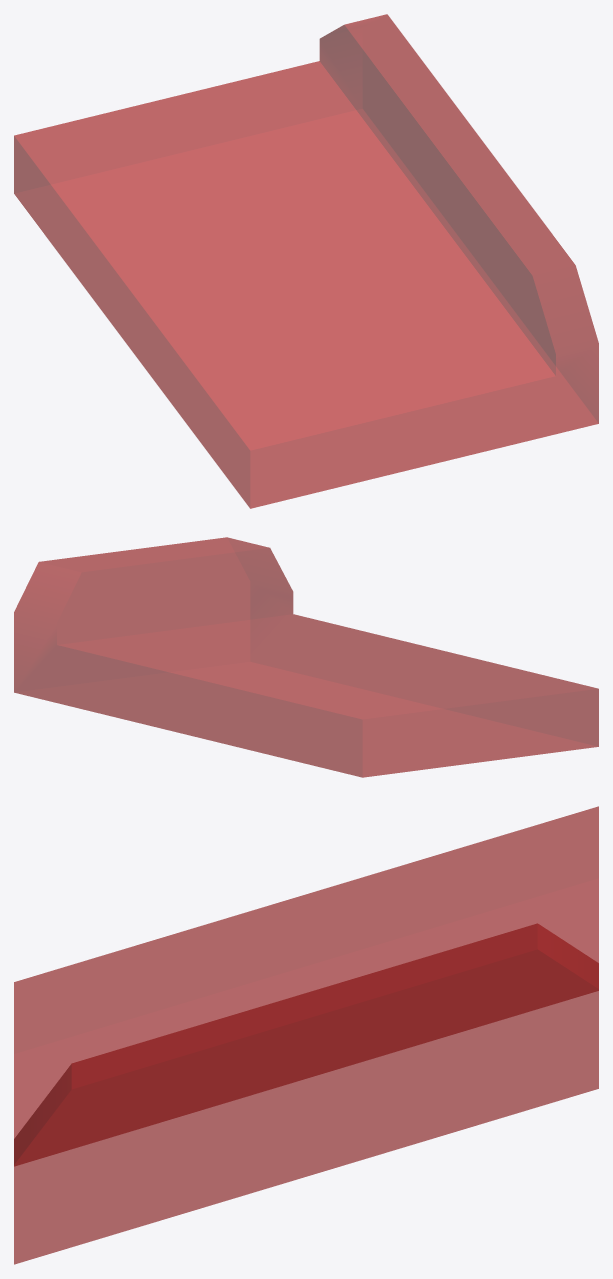
The model's file is SM_Env_Motorway_Ramp_Edge_Destroyed_04_Collision.fbx.
3 views of the same model, one above another, from view 1: azimuth 30°, elevation 25°; view 2: azimuth 150°, elevation 25°; view 3: azimuth 270°, elevation 25° (orthographic). The views are drawn at different scales.
Visible parts, largest first — view 1: SM_Env_Motorway_Ramp_Edge_Destroyed_04_Collision; view 2: SM_Env_Motorway_Ramp_Edge_Destroyed_04_Collision; view 3: SM_Env_Motorway_Ramp_Edge_Destroyed_04_Collision.
Part boxes in pixels (<box>): SM_Env_Motorway_Ramp_Edge_Destroyed_04_Collision: <box>14,14,598,508</box>; SM_Env_Motorway_Ramp_Edge_Destroyed_04_Collision: <box>14,537,598,777</box>; SM_Env_Motorway_Ramp_Edge_Destroyed_04_Collision: <box>14,806,598,1264</box>.
Size of the model in its own units: 640 by 447 by 752.
